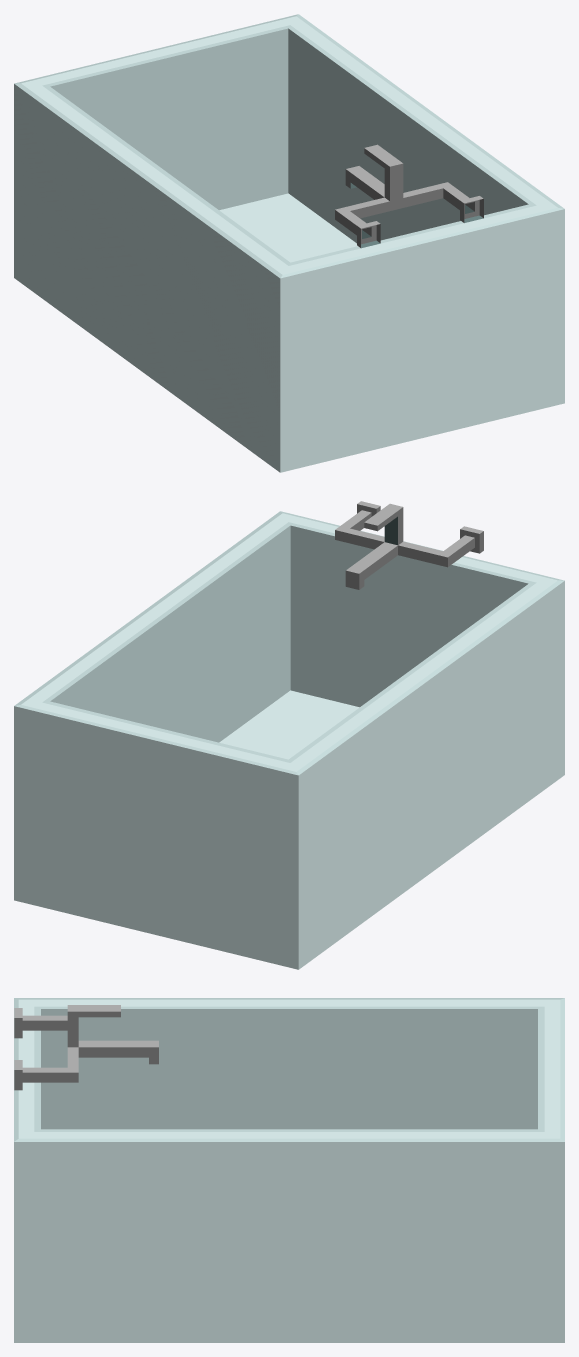
File: baignoire.fbx
The picture shows the model from 3 angles, top to bottom: view 1: azimuth 30°, elevation 25°; view 2: azimuth 150°, elevation 25°; view 3: azimuth 270°, elevation 25°; orthographic projection. The views are drawn at different scales.
Visible parts, largest first — view 1: Baignoires, Eau chaude/froide; view 2: Baignoires, Eau chaude/froide; view 3: Baignoires, Eau chaude/froide.
Boxes of the visible parts, x1,y1,x2,y2 form: Baignoires: (14, 14, 564, 472); Eau chaude/froide: (335, 144, 483, 248); Baignoires: (14, 511, 564, 969); Eau chaude/froide: (335, 501, 483, 589); Baignoires: (14, 998, 564, 1342); Eau chaude/froide: (14, 1005, 158, 1090).
Size of the model in its own units: 225 by 192 by 365.
